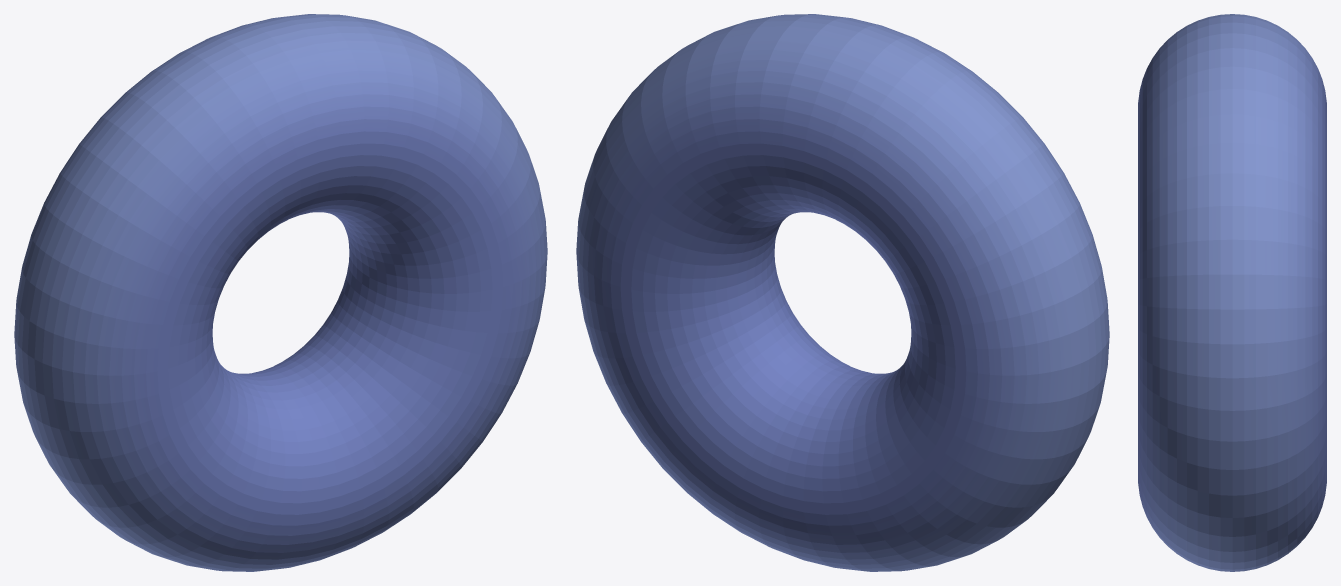
The picture shows the model from 3 angles, left to right: view 1: azimuth 30°, elevation 25°; view 2: azimuth 150°, elevation 25°; view 3: azimuth 270°, elevation 25°; orthographic projection. The views are drawn at different scales.
Visible parts, largest first — view 1: world; view 2: world; view 3: world.
Boxes of the visible parts, x1=… form: world: x1=14, y1=14, x2=547, y2=571; world: x1=576, y1=14, x2=1109, y2=571; world: x1=1138, y1=14, x2=1326, y2=571.
Size of the model in its own units: 16.13 by 16.1 by 5.46.
